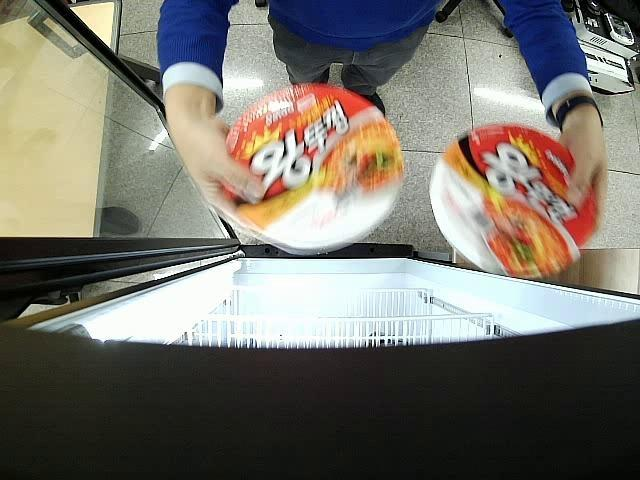10_wangTtukkeong: (222, 84, 404, 256), (430, 125, 598, 280)
